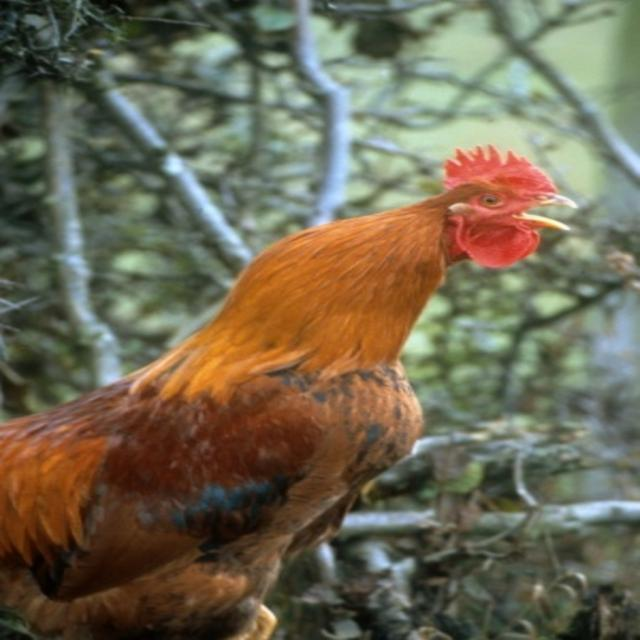Chicken: (0, 140, 574, 632)
